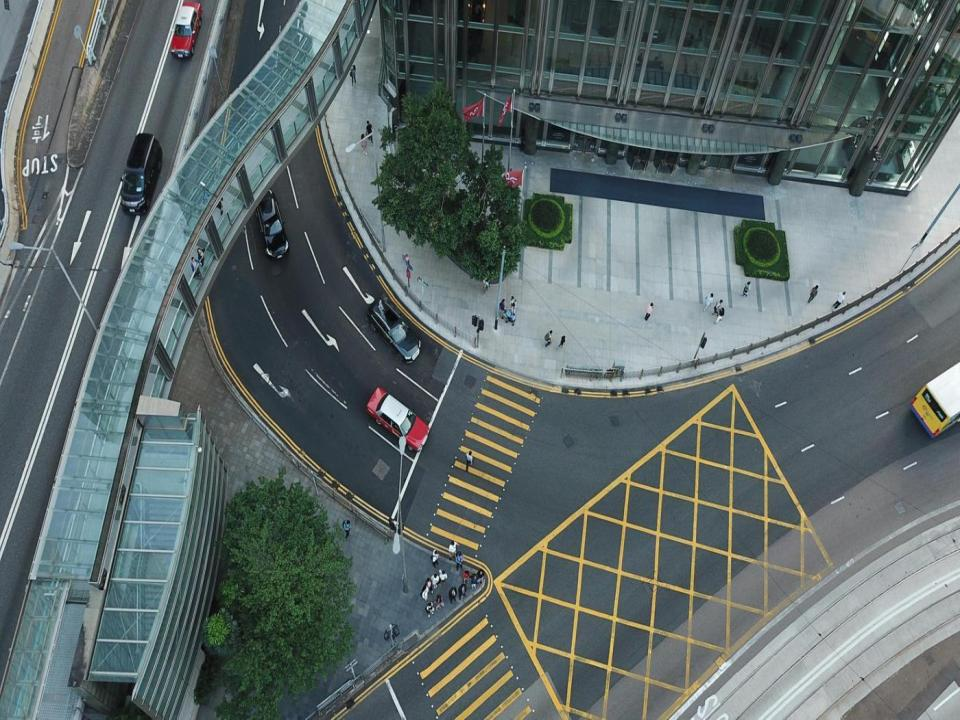bus: (912, 352, 960, 436)
car: (365, 386, 428, 453), (370, 295, 422, 361), (255, 187, 288, 260), (171, 3, 202, 58)
van: (121, 133, 162, 215)
